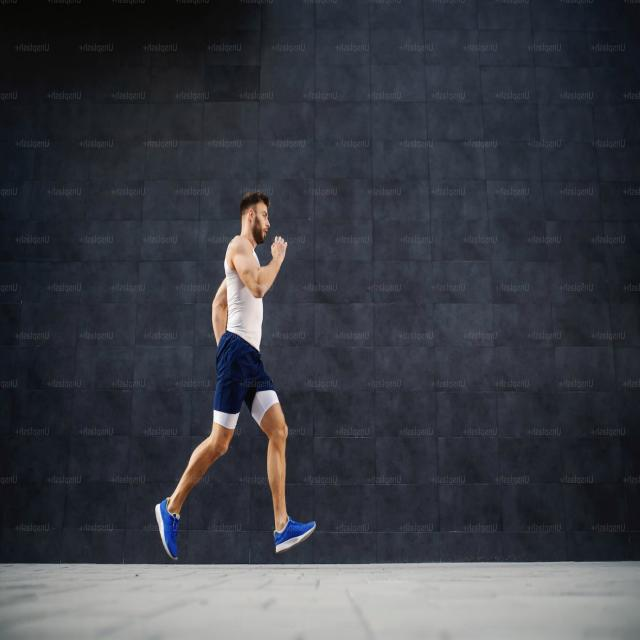adult: (154, 186, 314, 560)
